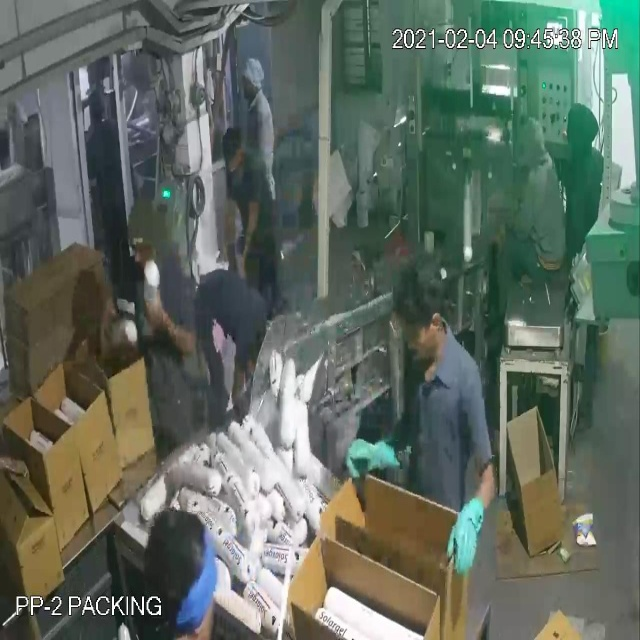Guantes: (436, 470, 501, 594), (327, 416, 418, 498)
Sin_guantes: (136, 287, 198, 365), (230, 189, 270, 287)
